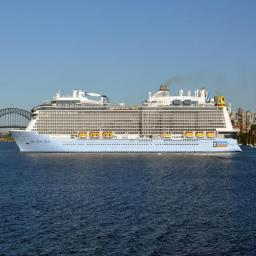cruises: (10, 87, 247, 156)
